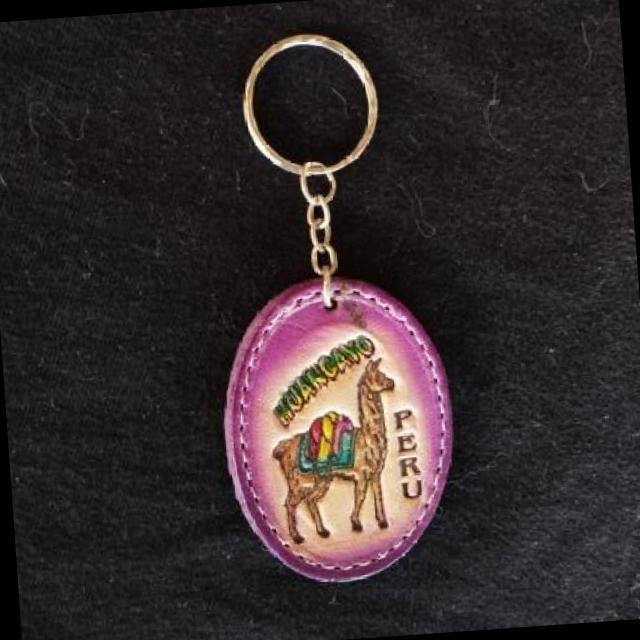Llavero: (212, 266, 464, 590)
